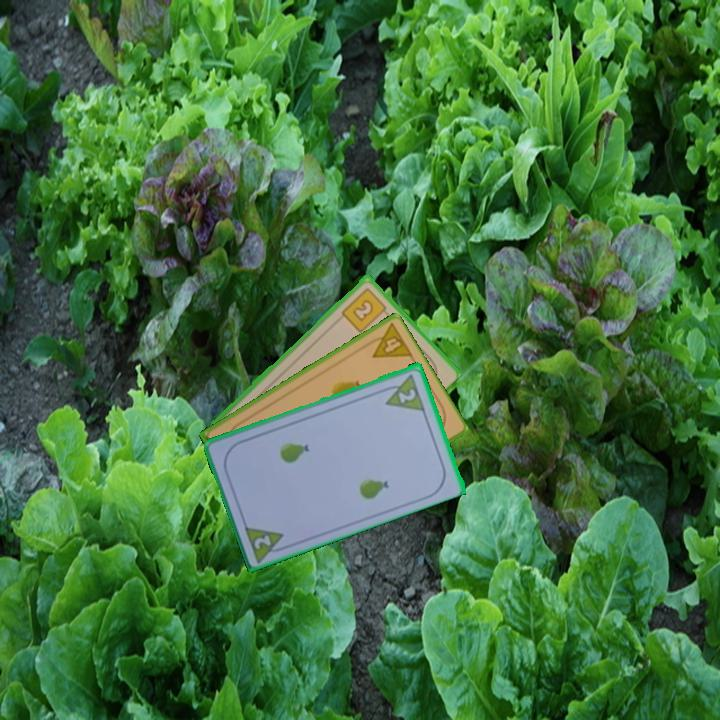2b: (338, 284, 392, 335)
2p: (240, 521, 292, 564), (378, 369, 428, 413)
4p: (360, 320, 415, 361)
